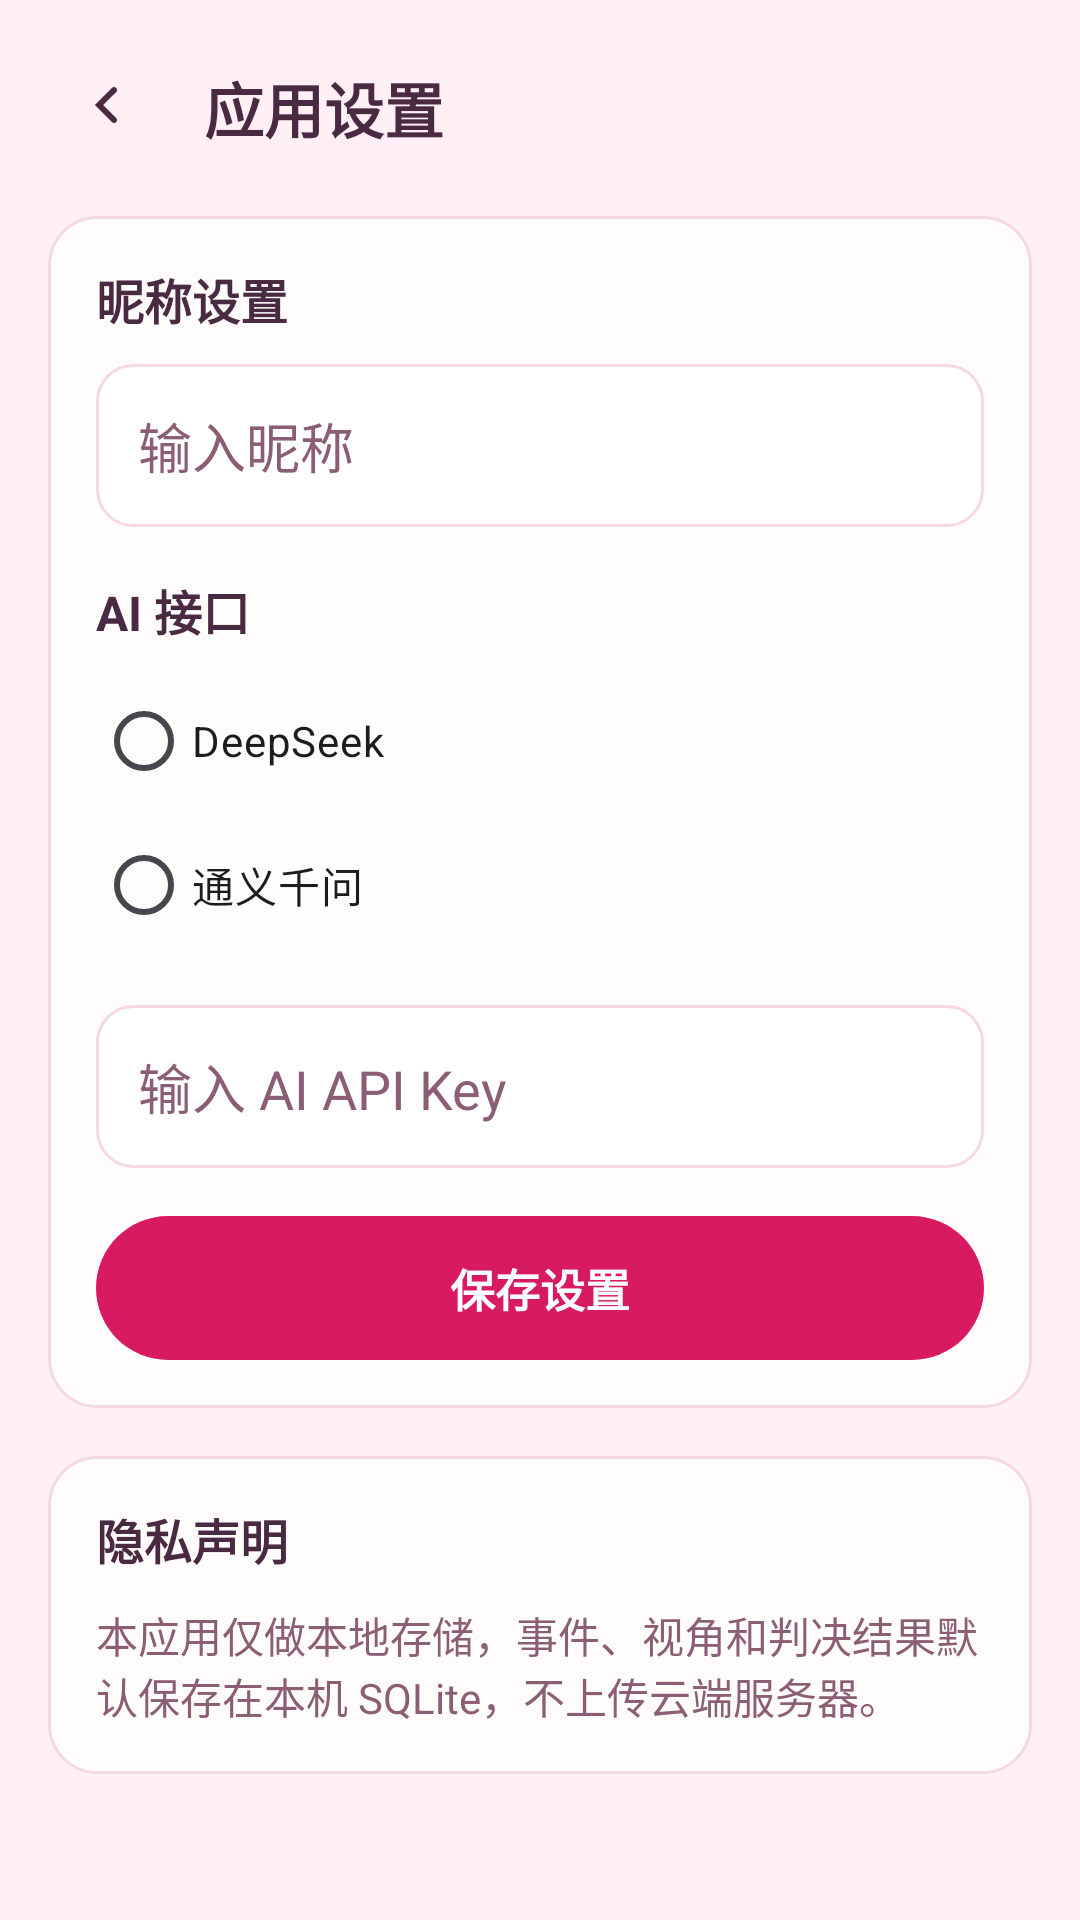

Screen size 1080×1920. Icon name, then its box in pixels as (x1, y1, x2, y2):
返回: (95, 87, 117, 123)
